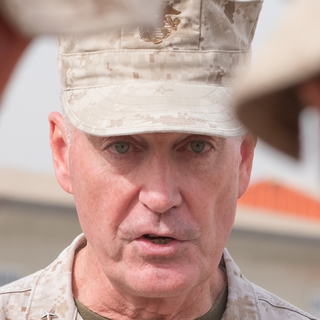eye: (96, 135, 144, 157), (175, 135, 217, 156)
